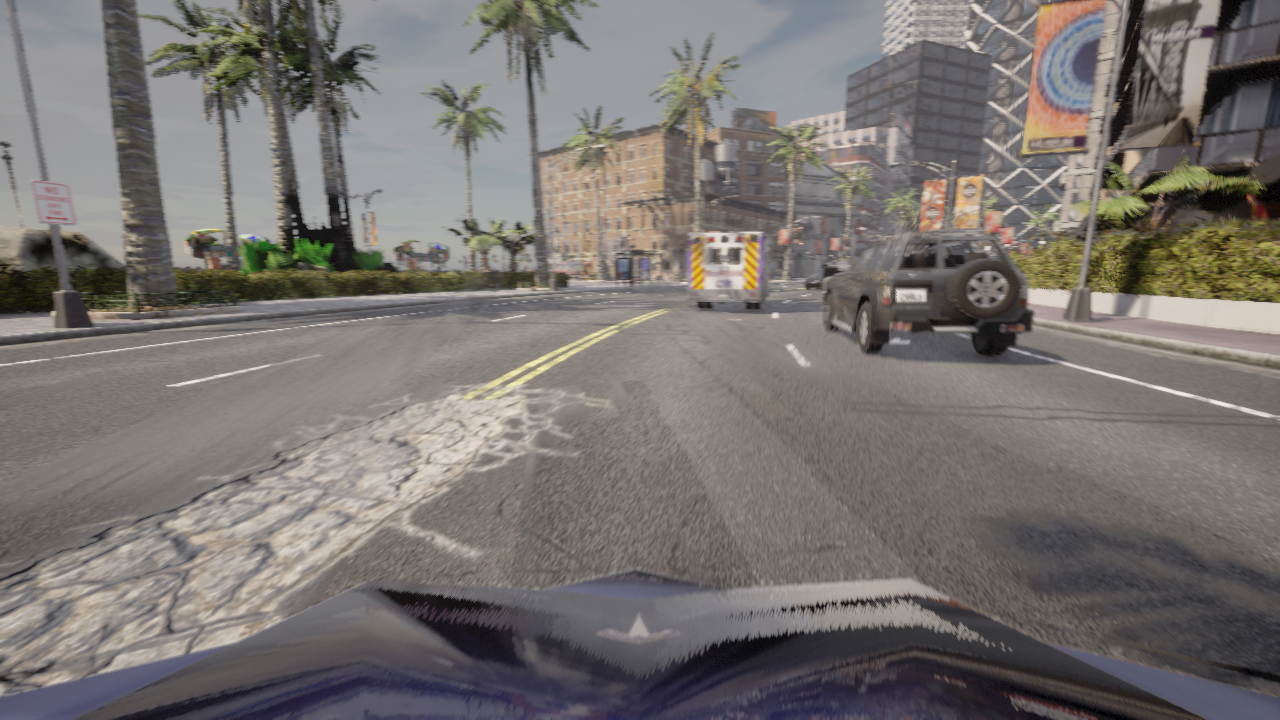cyclist: (0, 569, 1279, 719), (821, 230, 1033, 356), (686, 231, 775, 309), (819, 258, 857, 291), (805, 271, 821, 289)
